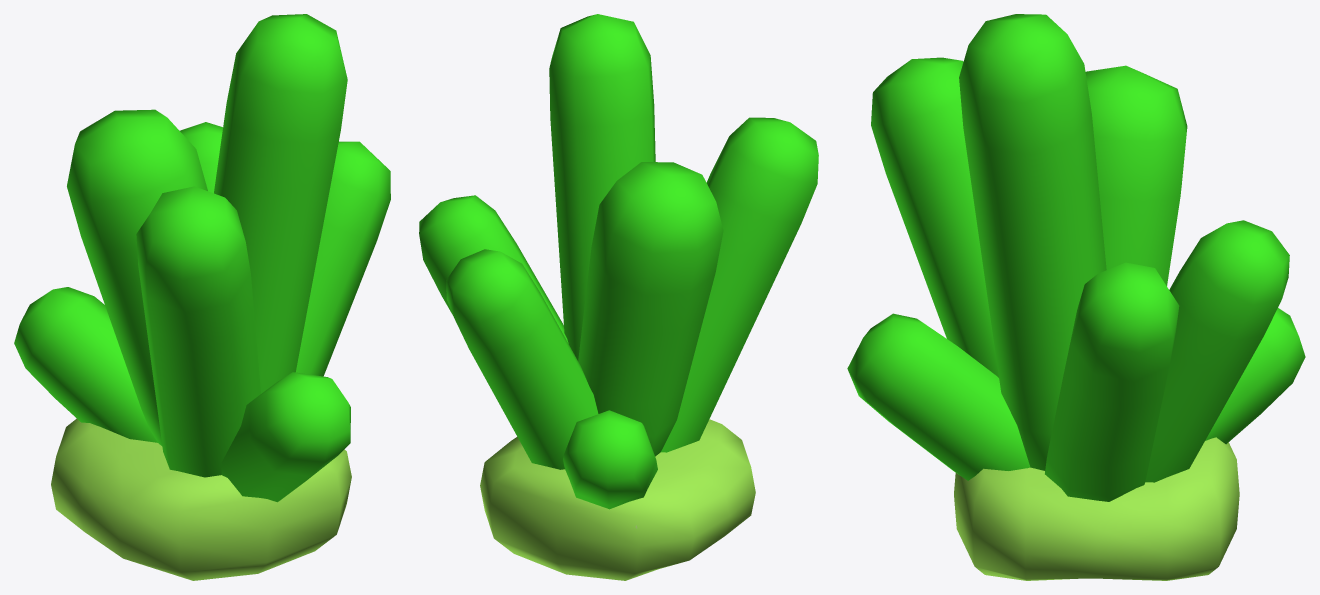
Rendered from RivernemGREEN.fbx.
The picture shows the model from 3 angles, left to right: view 1: azimuth 30°, elevation 25°; view 2: azimuth 150°, elevation 25°; view 3: azimuth 270°, elevation 25°; orthographic projection. The views are drawn at different scales.
Parts seen in each view (by area): view 1: Cube.022; view 2: Cube.022; view 3: Cube.022.
Boxes of the visible parts, x1,y1,x2,y2 form: Cube.022: (14, 14, 390, 580); Cube.022: (419, 14, 818, 580); Cube.022: (847, 14, 1305, 580).
Bounding box in the file's own units: 22.94 × 34.72 × 25.79.
